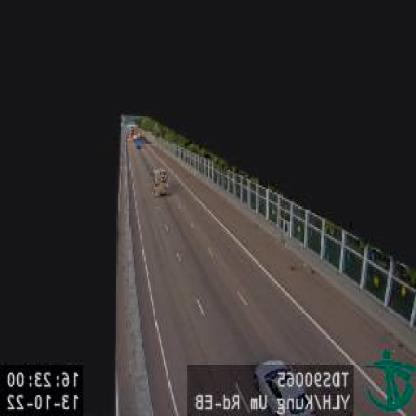Car: (253, 358, 309, 414)
